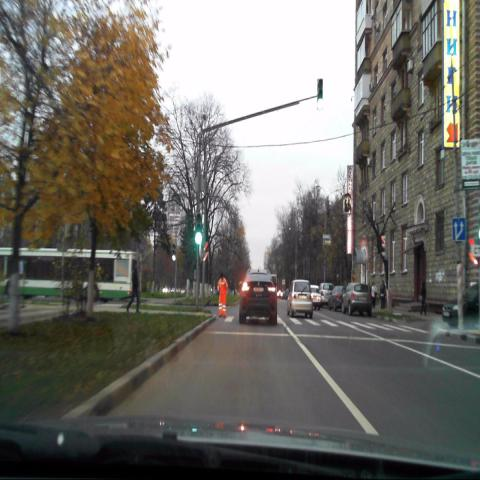5_15_3: (452, 218, 466, 241)
